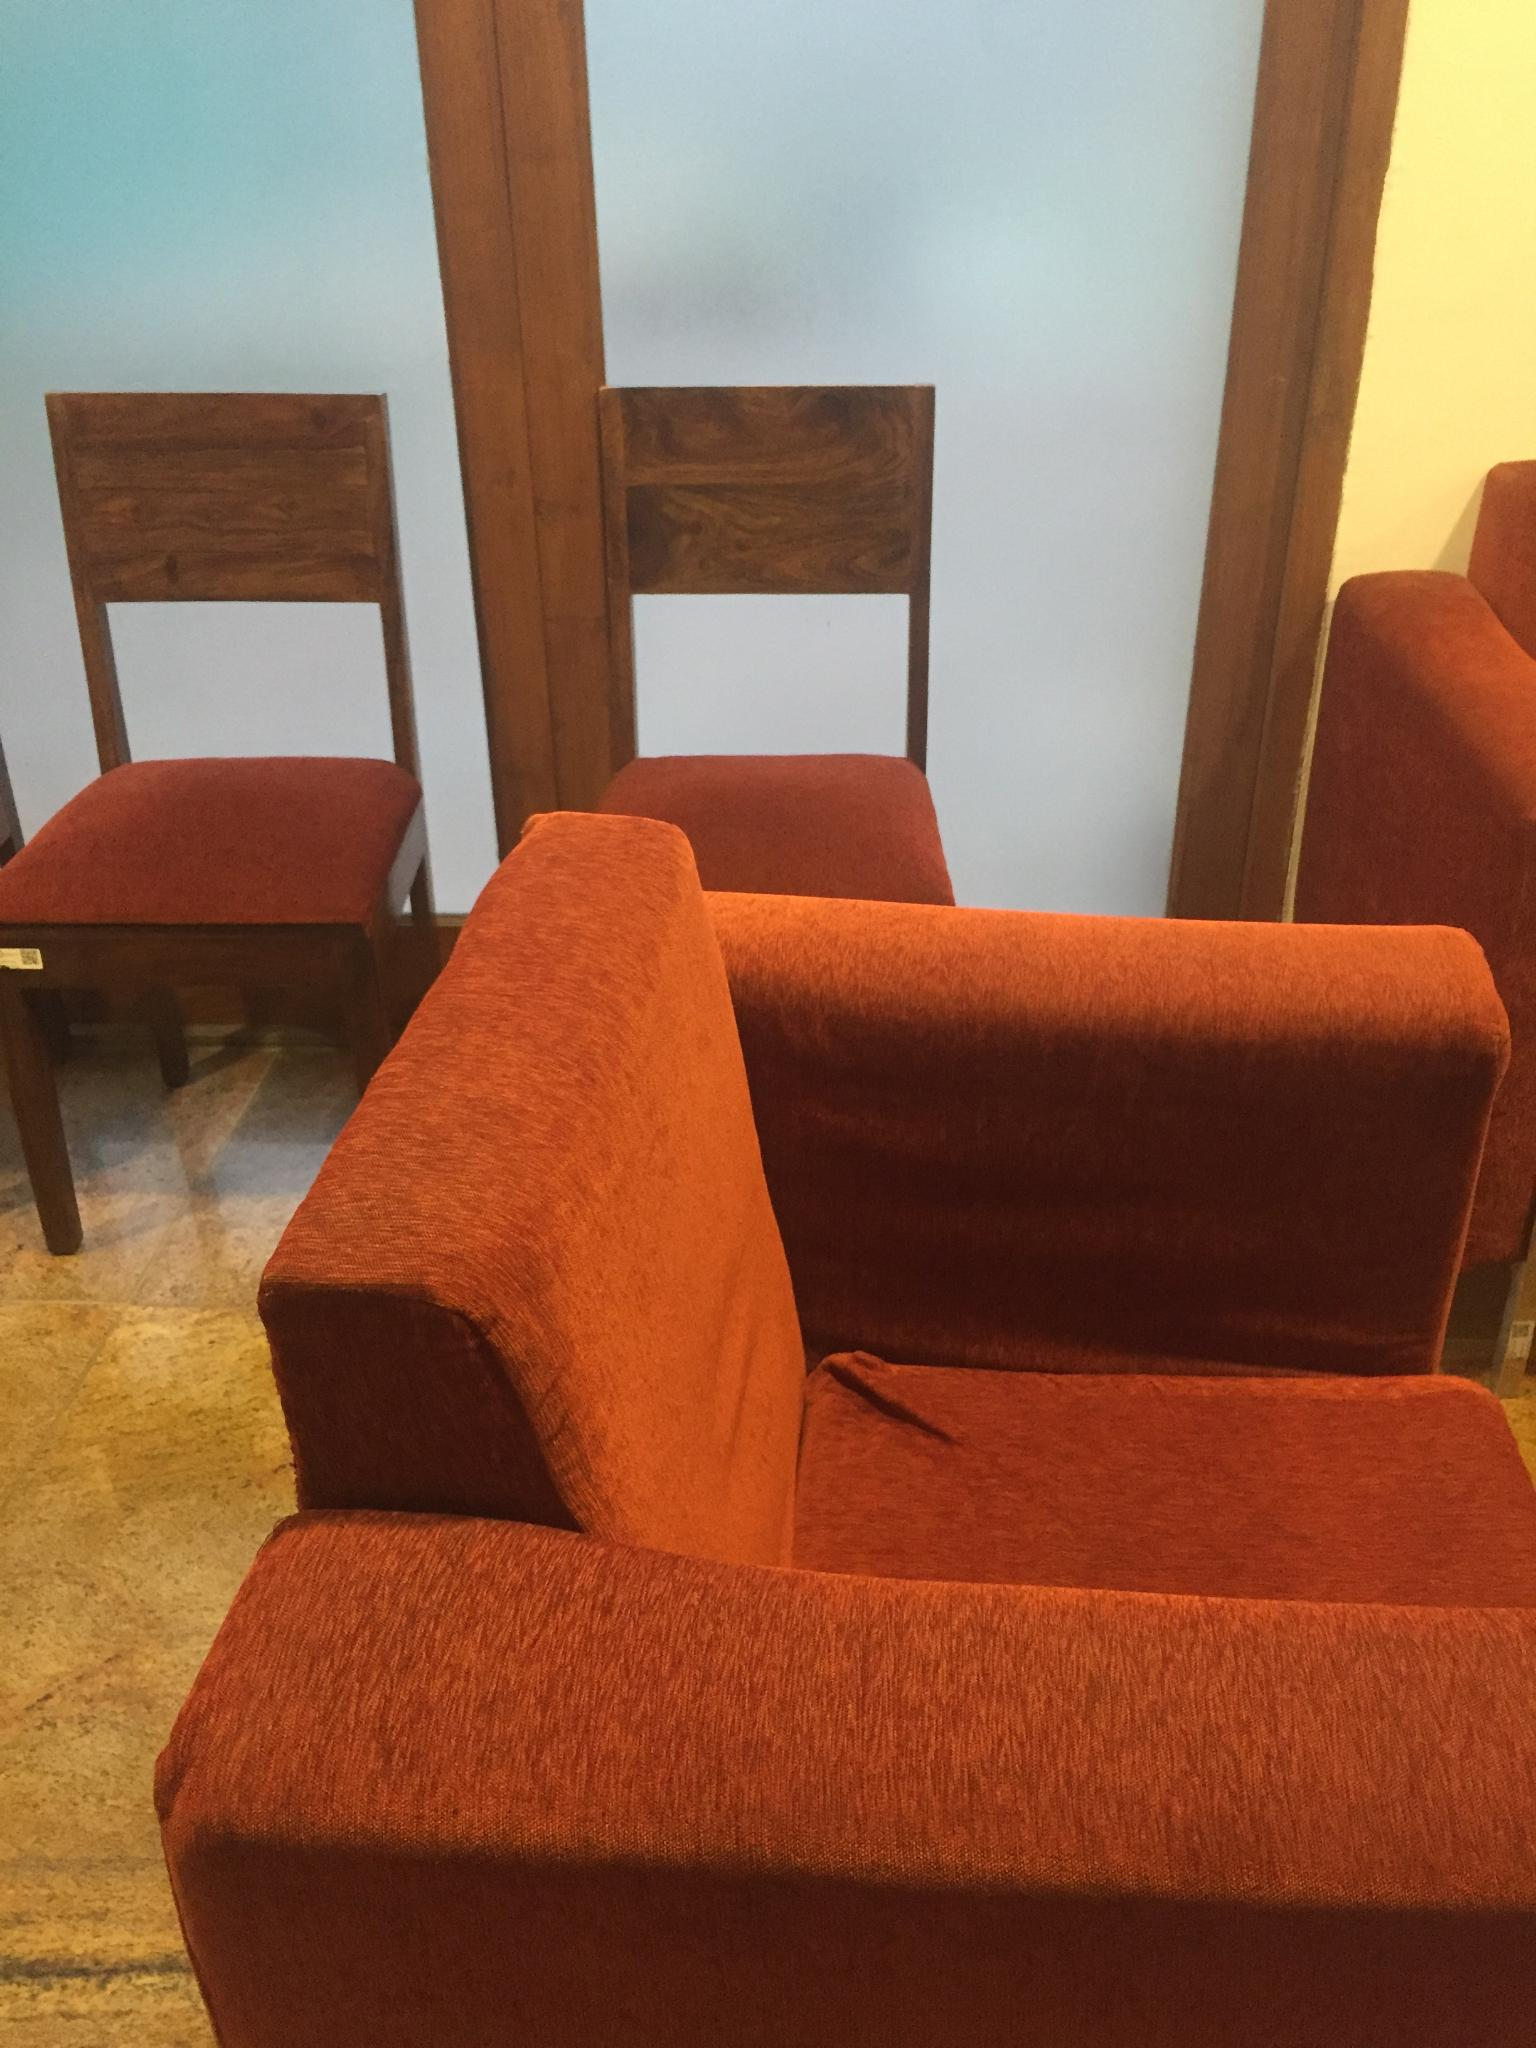chair: (0, 389, 437, 1253), (555, 358, 976, 976)
